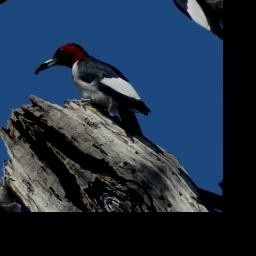Woodpecker: (32, 28, 186, 176)
